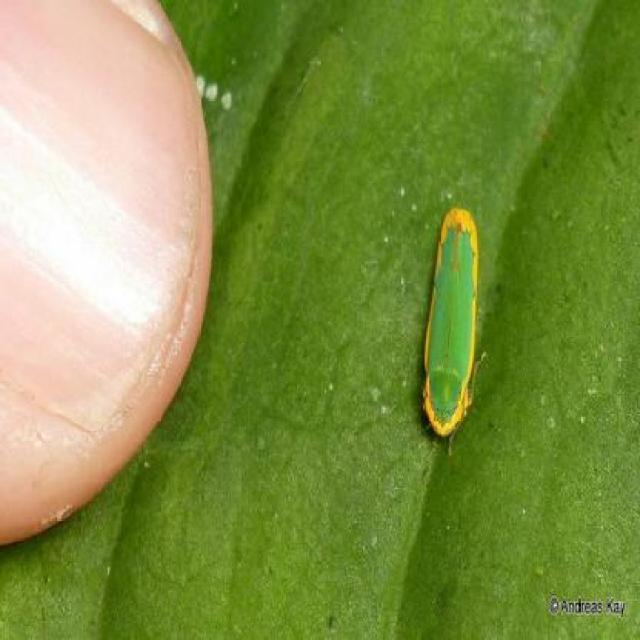green-leafhopper: (414, 198, 497, 442)
